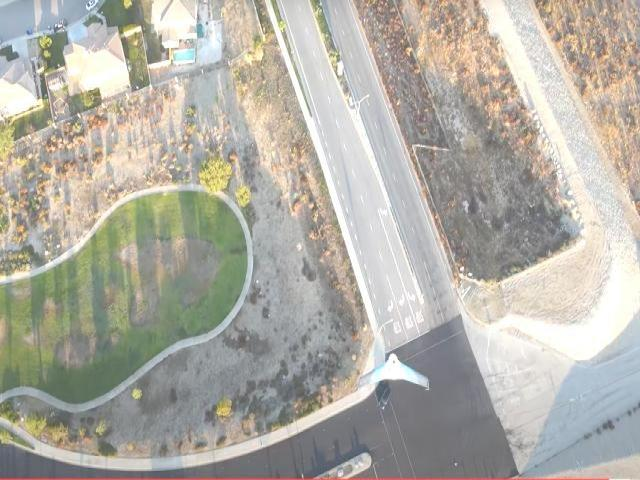iha: (363, 352, 431, 390)
